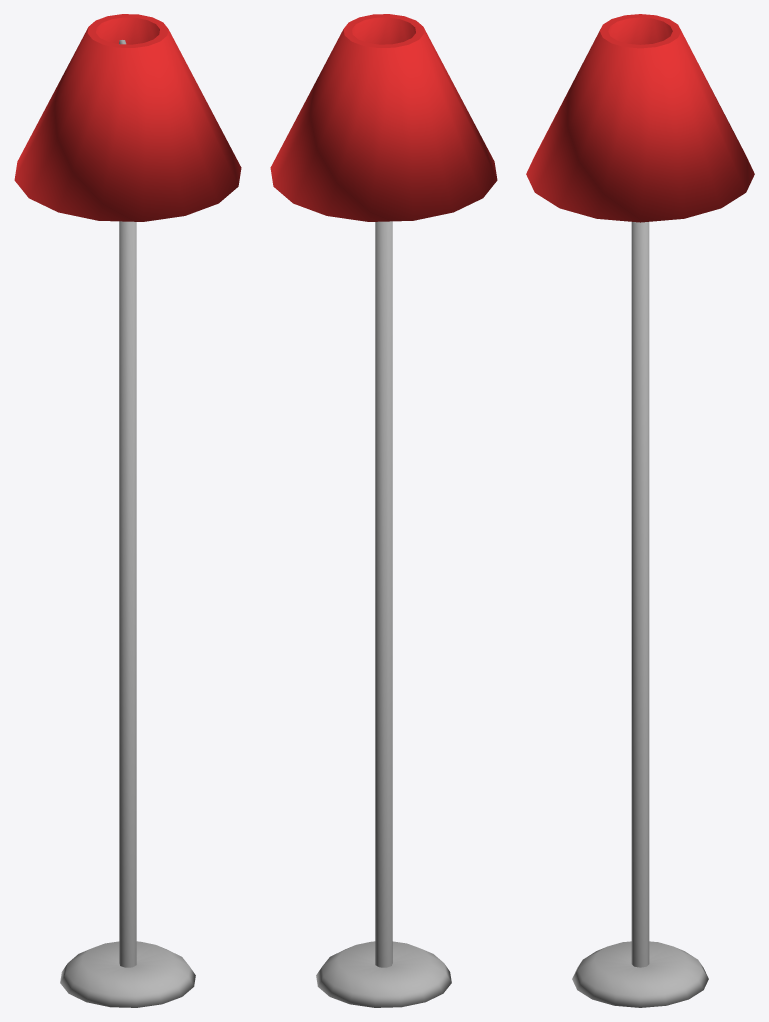
The model's file is lamp_10.glb.
3 views of the same model, side by side, from view 1: azimuth 30°, elevation 25°; view 2: azimuth 150°, elevation 25°; view 3: azimuth 270°, elevation 25° (orthographic).
Parts seen in each view (by area): view 1: Lamp 1; view 2: Lamp 1; view 3: Lamp 1.
Boxes of the visible parts, bbox=[...] form: Lamp 1: bbox=[14, 14, 241, 1007]; Lamp 1: bbox=[270, 14, 497, 1007]; Lamp 1: bbox=[526, 14, 754, 1007].
Size of the model in its own units: 0.3544 by 1.62 by 0.3544.
Materials: 1 (1 with a texture image).
